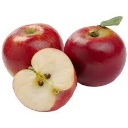apple: (13, 47, 77, 112)
